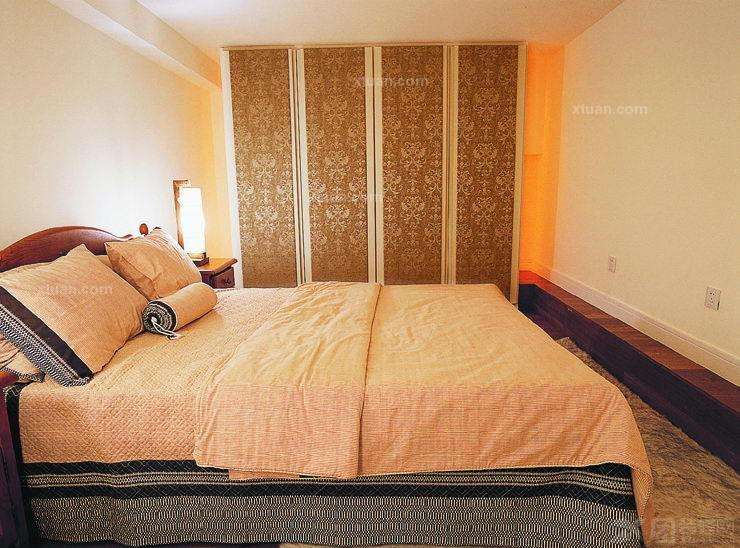床: (2, 271, 666, 511)
枕头: (0, 229, 209, 372)
灯: (171, 181, 208, 265)
